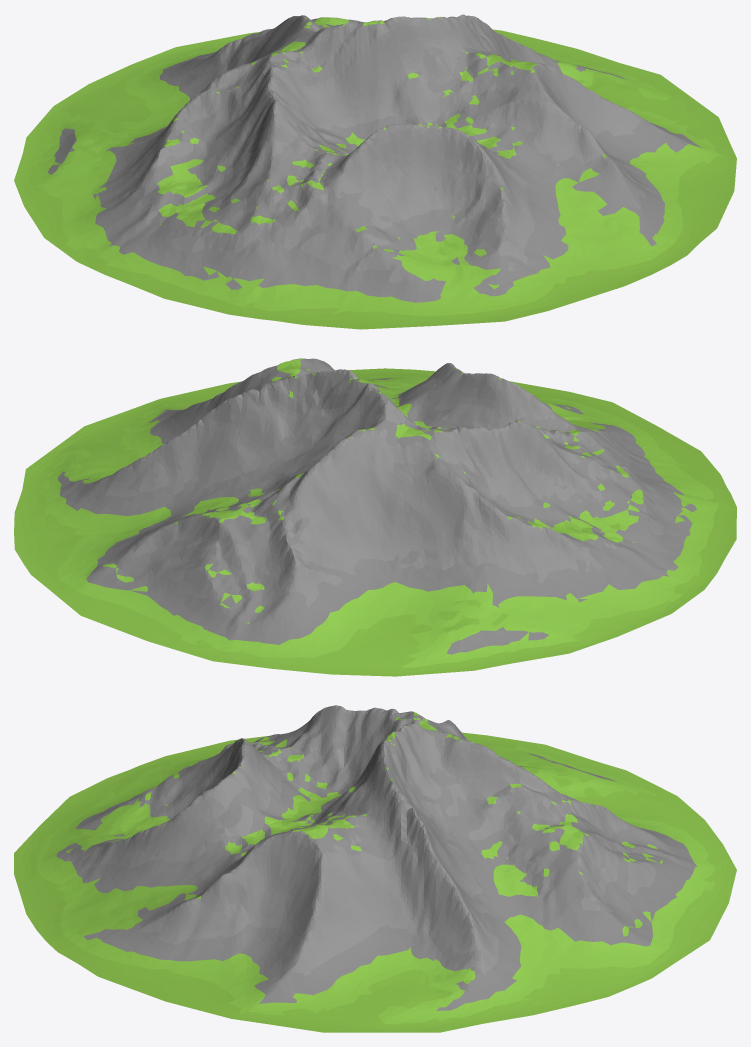
The model's file is LP_Mountain_01.fbx.
The picture shows the model from 3 angles, top to bottom: view 1: azimuth 30°, elevation 25°; view 2: azimuth 150°, elevation 25°; view 3: azimuth 270°, elevation 25°; orthographic projection.
Parts seen in each view (by area): view 1: LP_Mountain_01_LOD0; view 2: LP_Mountain_01_LOD0; view 3: LP_Mountain_01_LOD0.
Part boxes in pixels (x1,y1,x2,y2): LP_Mountain_01_LOD0: [14, 14, 736, 329]; LP_Mountain_01_LOD0: [14, 358, 736, 676]; LP_Mountain_01_LOD0: [14, 705, 736, 1032].
Size of what is drawn, in the model's own units: 250 by 56.66 by 250.
